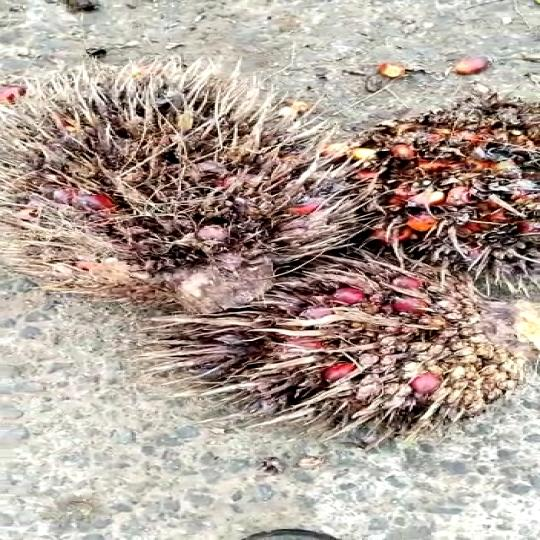terlalu masak: (0, 77, 374, 292), (133, 251, 540, 441)
